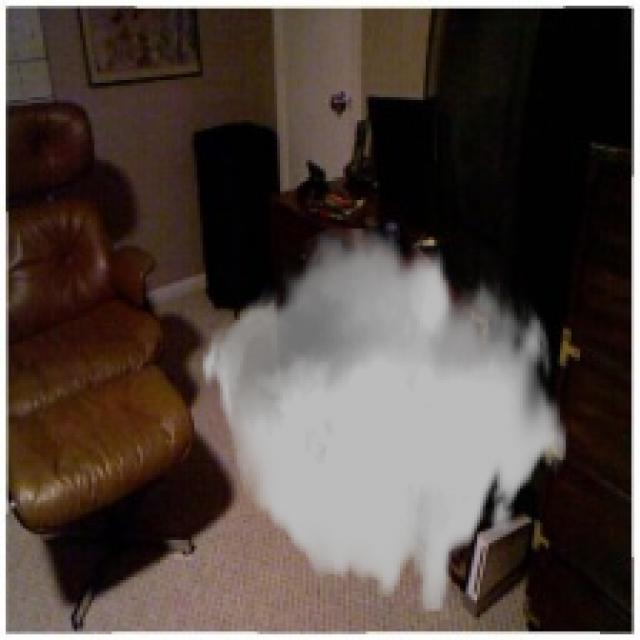smoke: (200, 228, 569, 612)
